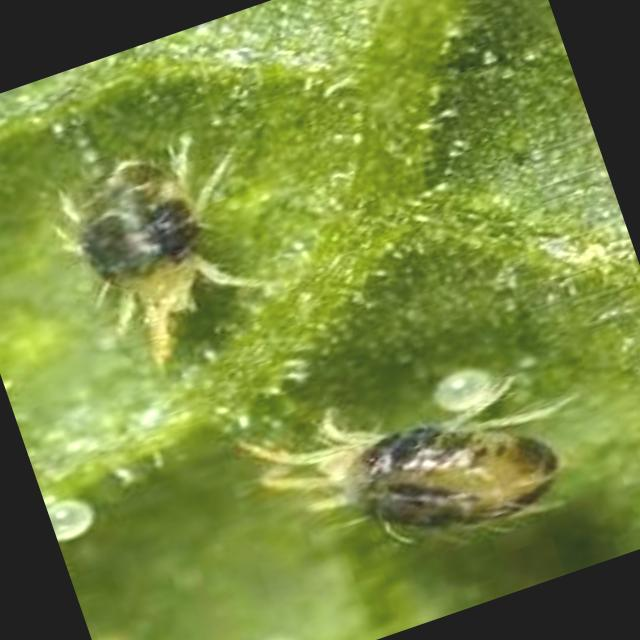spider mite: (200, 283, 586, 624), (0, 69, 318, 392)
